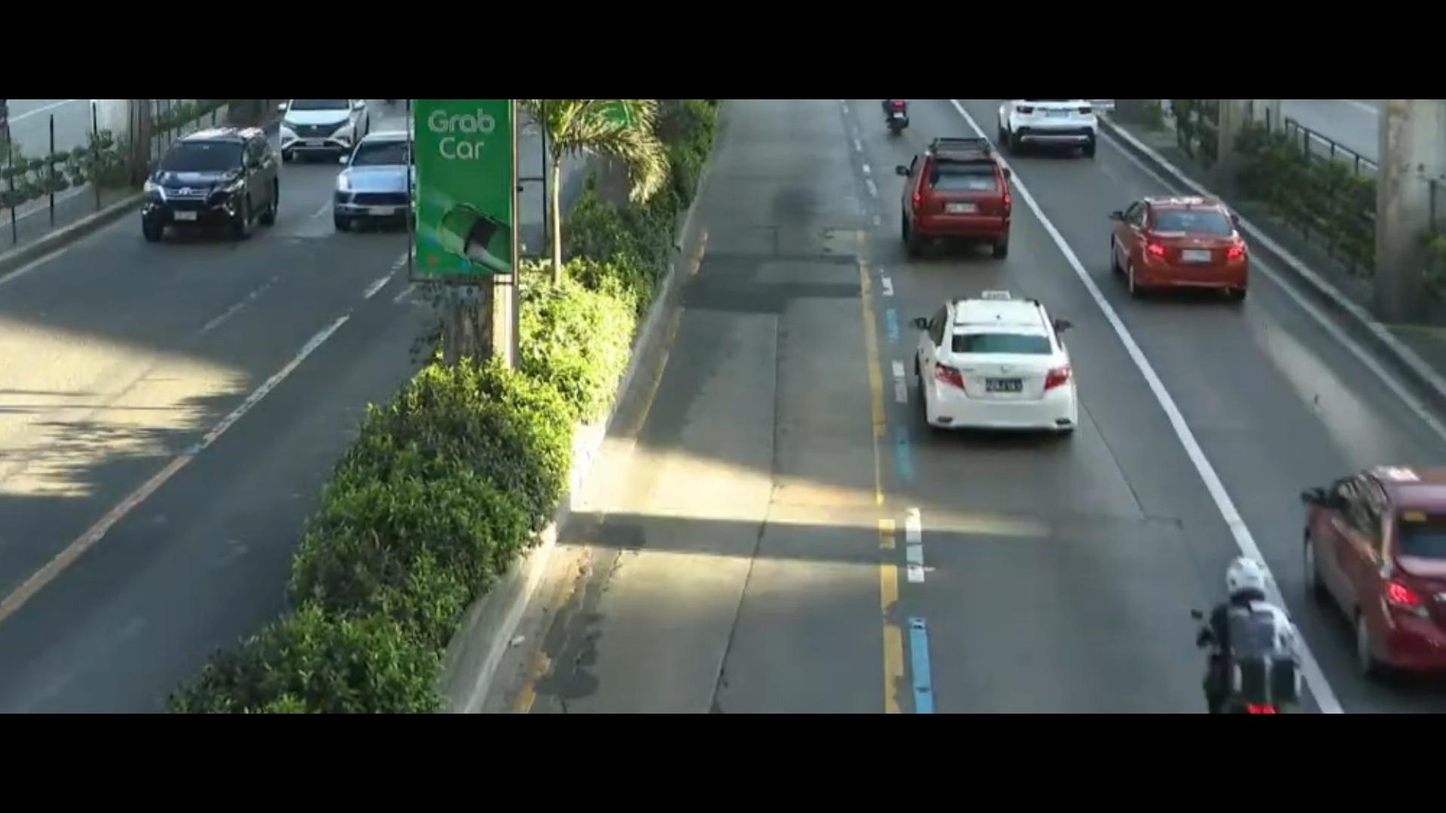Motorcycle: (1158, 544, 1333, 718)
SUV: (113, 126, 277, 254), (902, 121, 1020, 284), (345, 115, 431, 229), (283, 102, 363, 160)
Sedan: (900, 266, 1098, 463), (1294, 458, 1446, 677), (1099, 180, 1273, 329)
